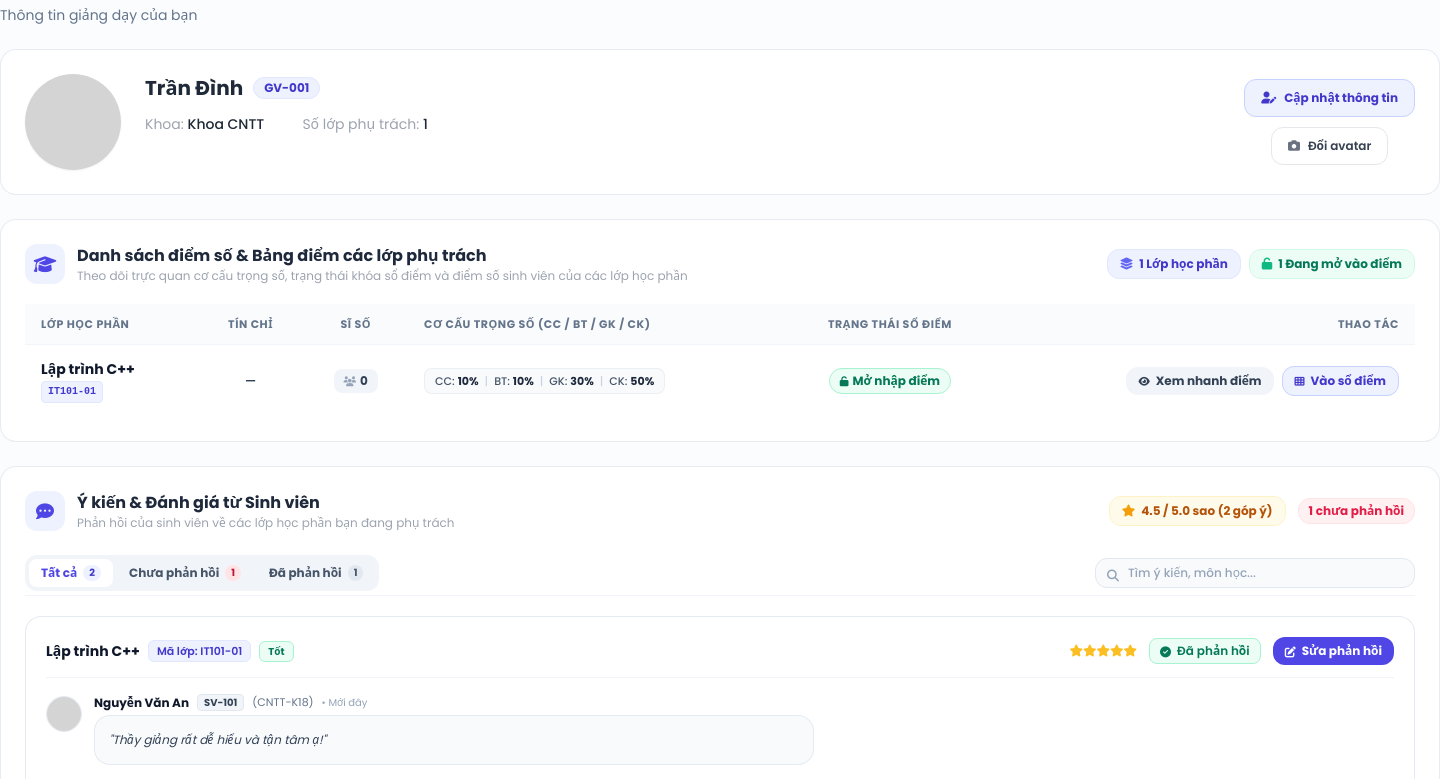
Test: TeacherDashboard - Feedback 2-Way Chat Bubble & Smart Filters › filters feedbacks correctly when switching between status tabs
expect the heading "Ý kiến & Đánh giá từ Sinh viên" is shown: met, box [77,491,320,514]
expect the text "\"Thầy giảng rất dễ hiểu và tận tâm ạ!\"" is shown: met, box [109,731,326,748]
Note: Click "Chưa phản hồi" tab
Click the button "Chưa phản hồi 1": click(185, 573) [117,559,253,587]
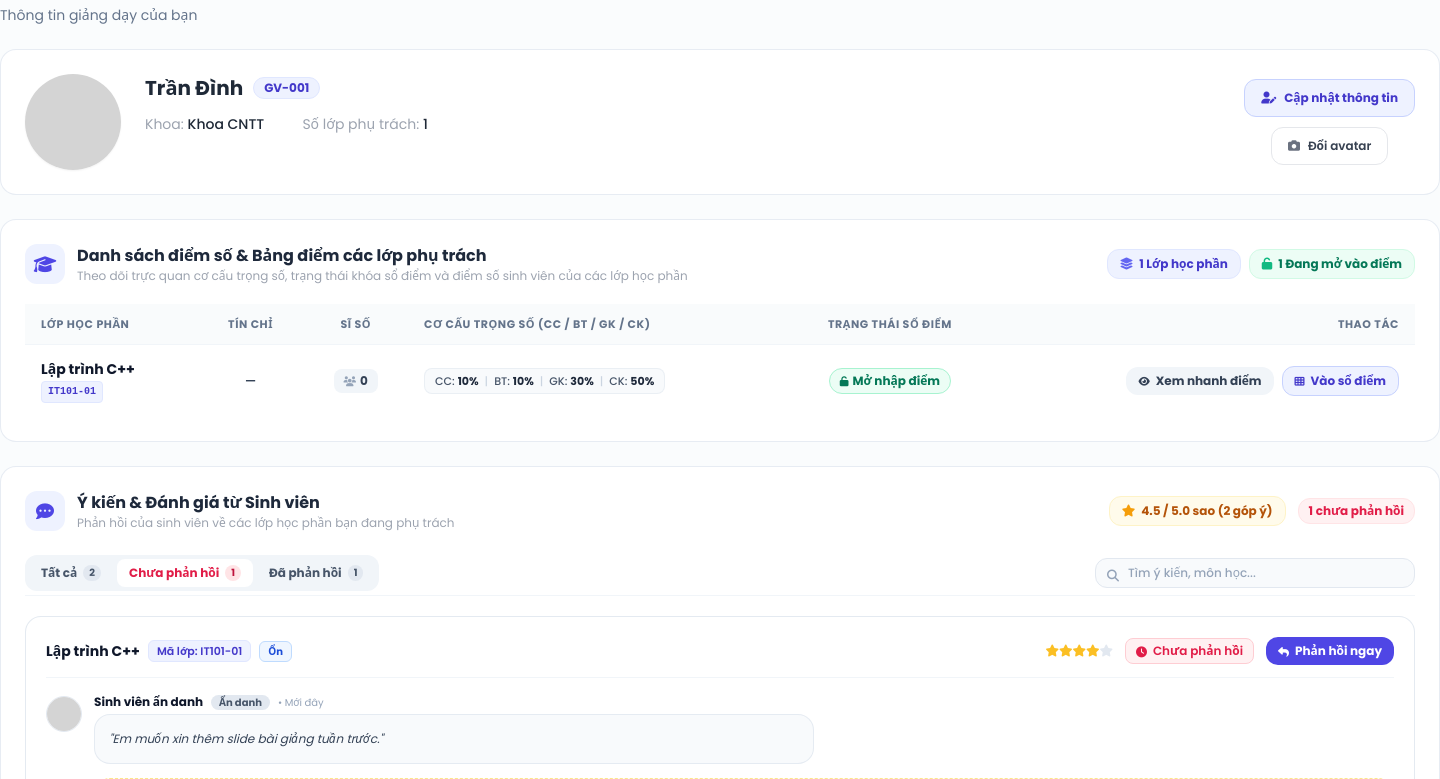
expect the text "\"Em muốn xin thêm slide bài giảng tuần trước.\"" is shown: met, box [109,730,383,747]
expect the text "\"Thầy giảng rất dễ hiểu và tận tâm ạ!\"" is gone: met
Note: Click "Đã phản hồi" tab
Click the button "Đã phản hồi 1": click(316, 573) [257,559,375,587]
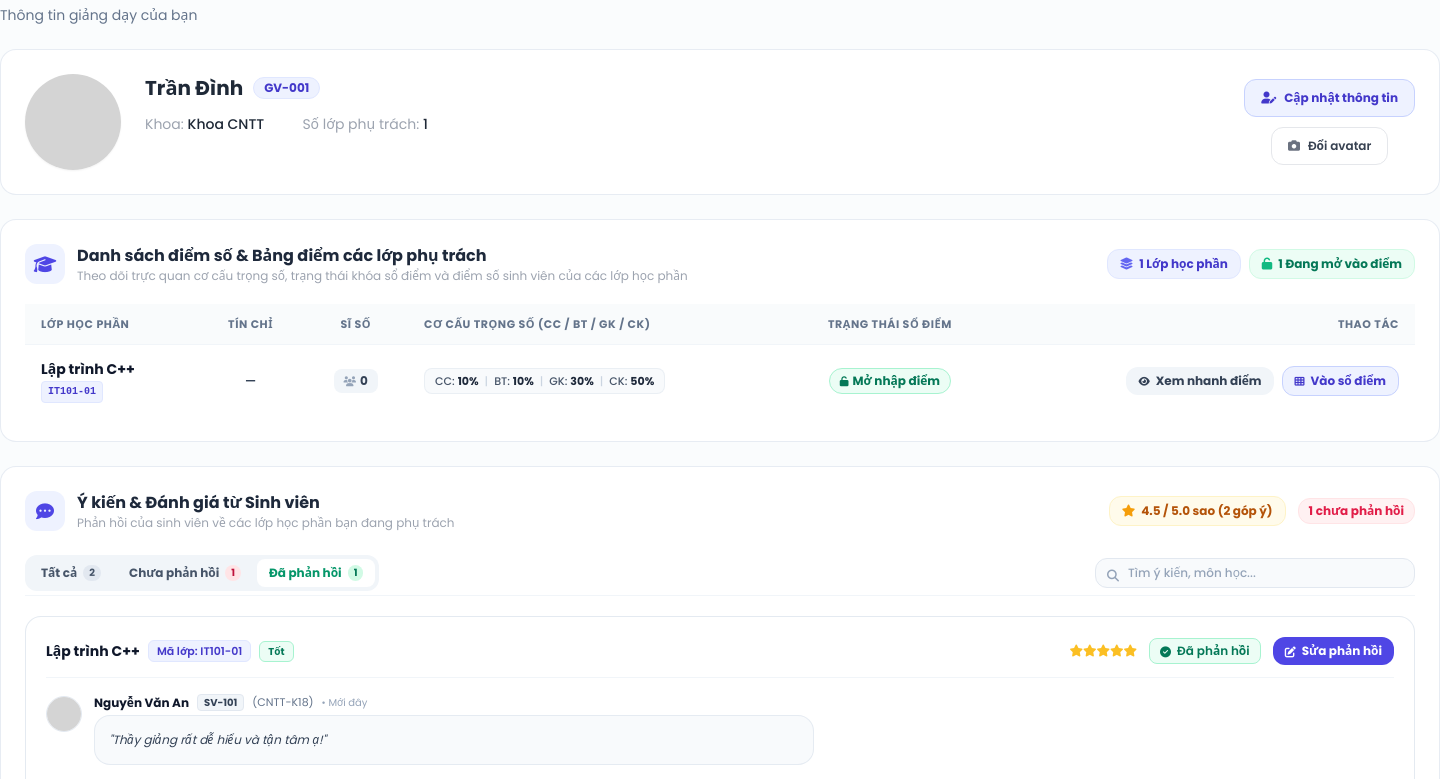
expect the text "\"Thầy giảng rất dễ hiểu và tận tâm ạ!\"" is shown: met, box [109,731,326,748]
expect the text "\"Em muốn xin thêm slide bài giảng tuần trước.\"" is gone: met
Note: Click "Tất cả" tab again
Click the button "Tất cả 2": click(71, 573) [29,559,113,587]
(page scrolled)
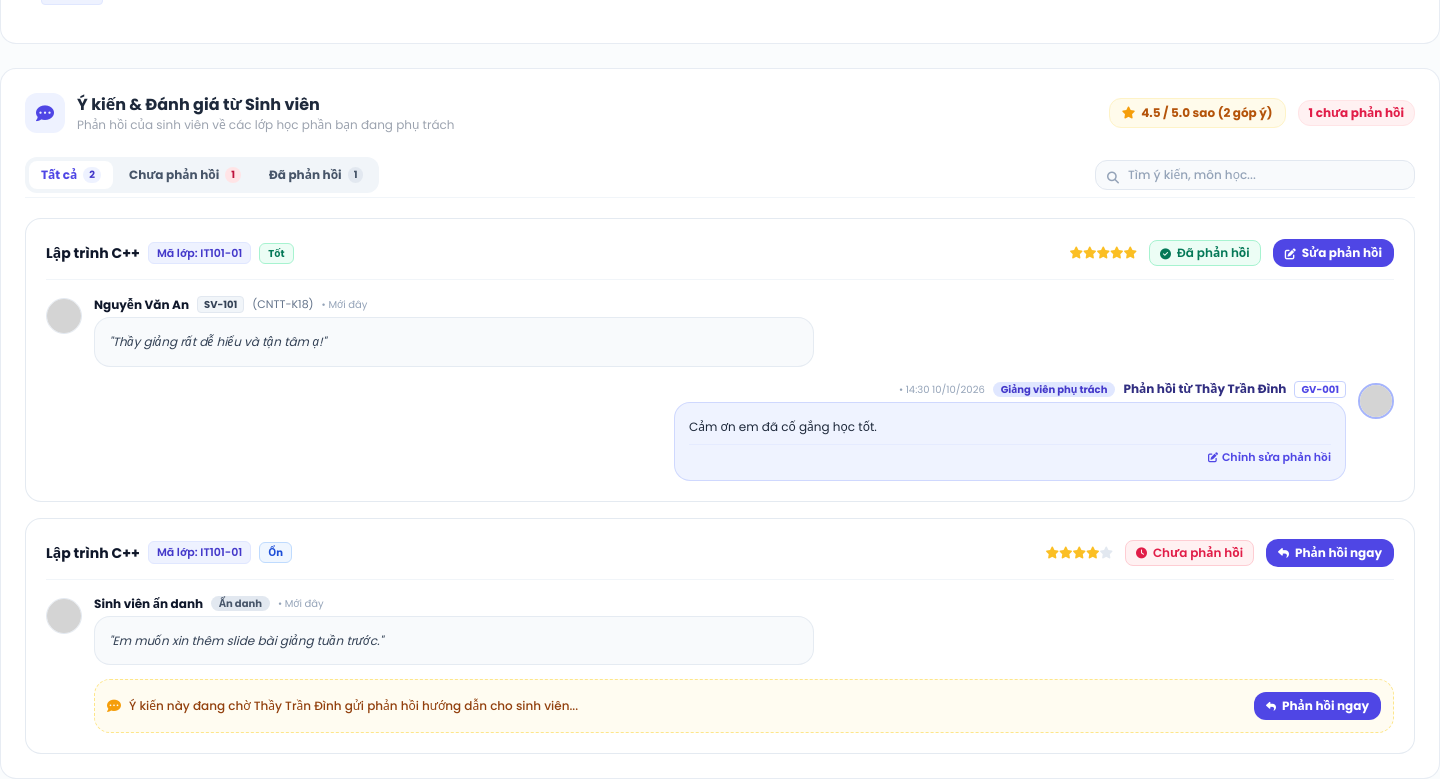
expect the text "\"Thầy giảng rất dễ hiểu và tận tâm ạ!\"" is shown: met, box [109,333,326,350]
expect the text "\"Em muốn xin thêm slide bài giảng tuần trước.\"" is shown: met, box [109,632,383,648]
